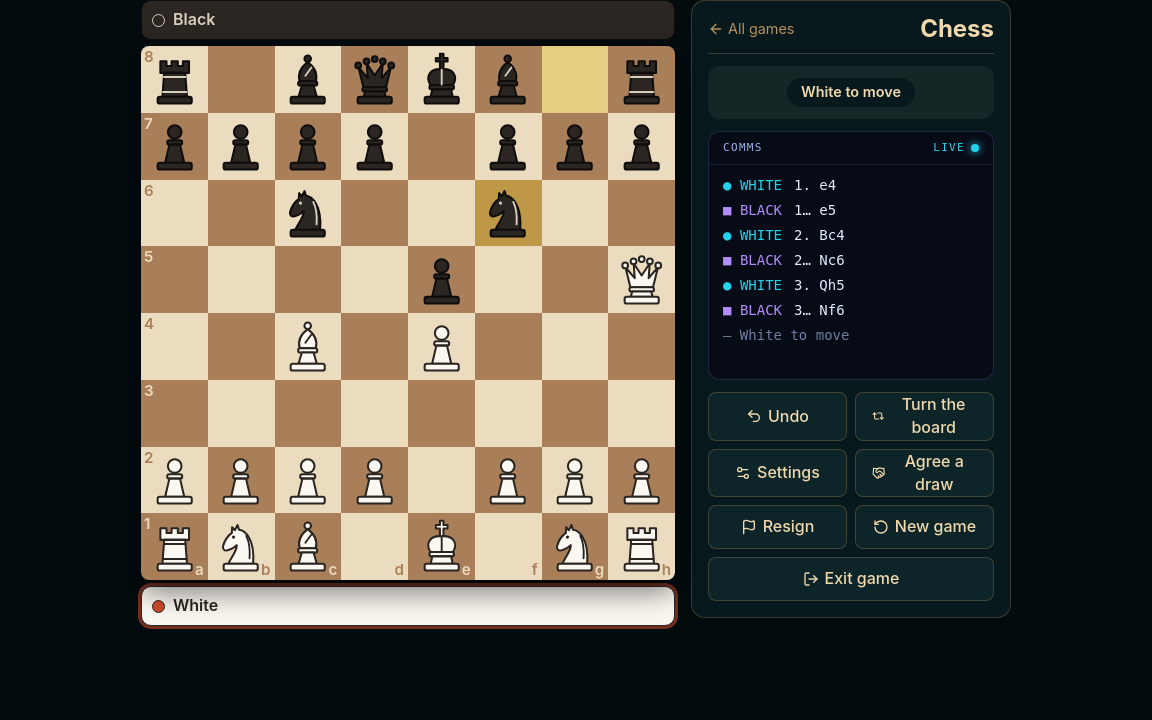
Test: ChessPage › announces a checkmate
Click the button named "h5, White queen": (642, 280) [608,246,675,313]
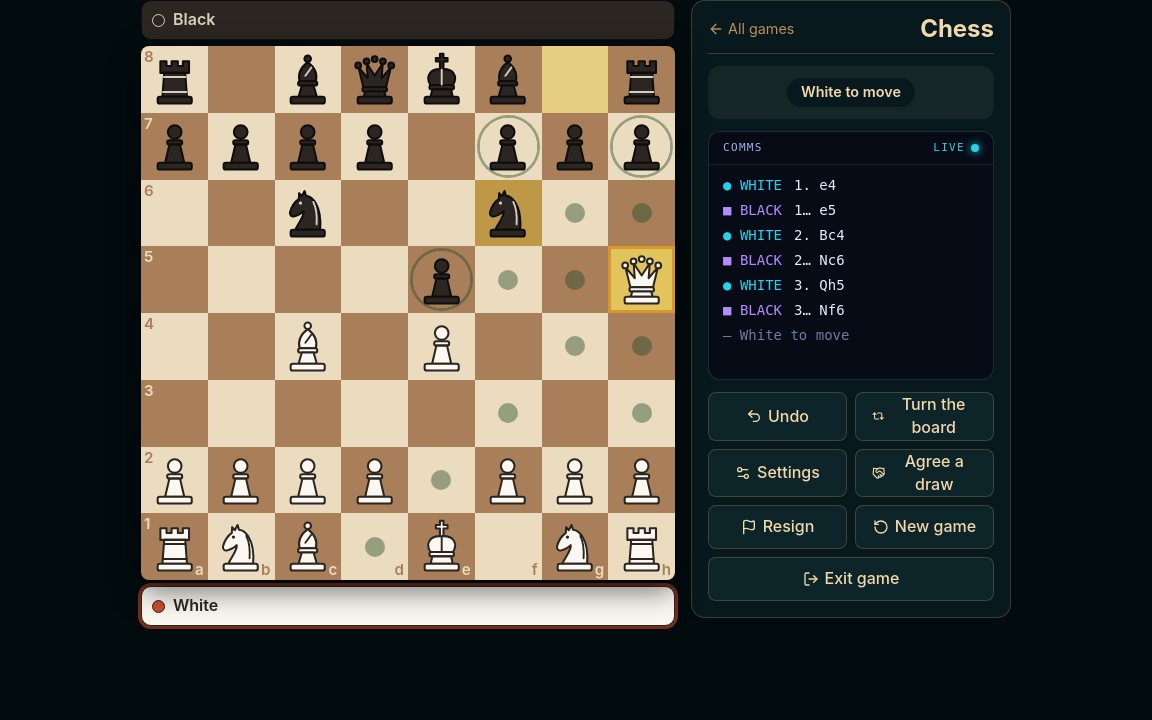
Click the button named "f7, Black pawn": (508, 146) [475,113,542,180]
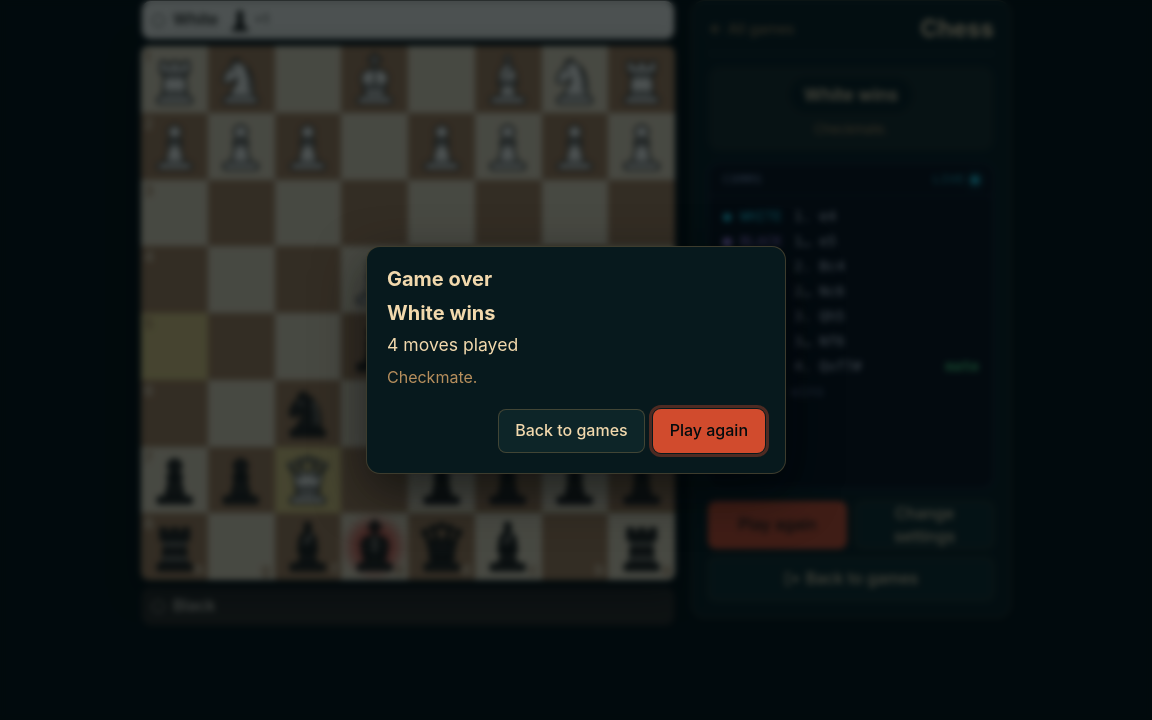
Expected: the dialog "Game over" shows "White wins", [387,301,496,325]
Expected: the dialog "Game over" shows "Checkmate.", [387,367,477,387]
